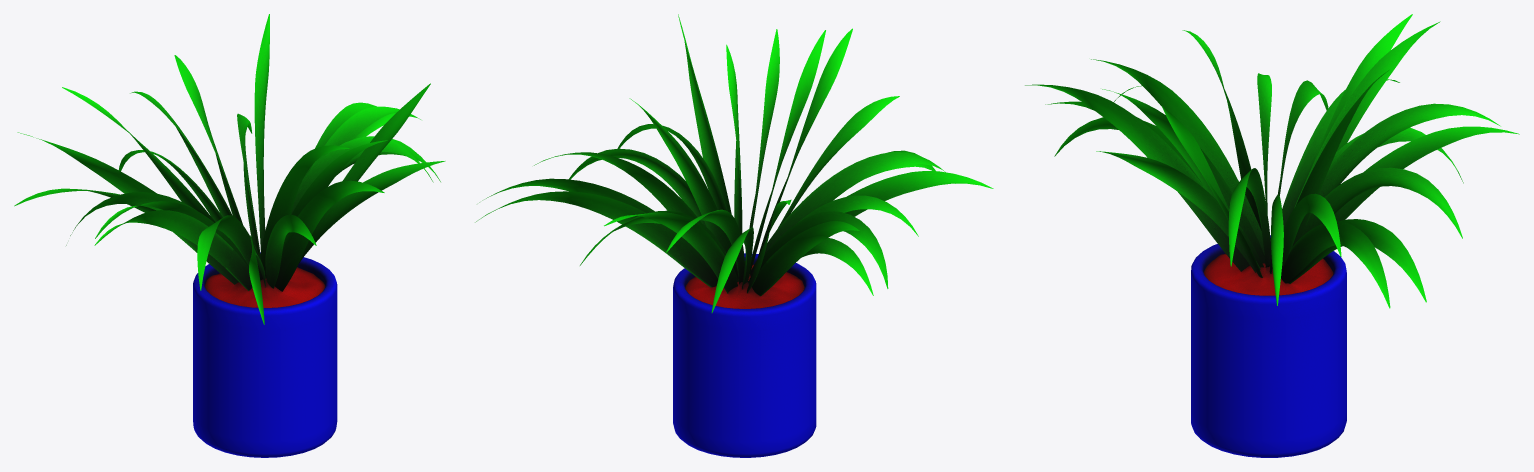
File: asset.glb
3 views of the same model, side by side, from view 1: azimuth 30°, elevation 25°; view 2: azimuth 150°, elevation 25°; view 3: azimuth 270°, elevation 25° (orthographic). The views are drawn at different scales.
Visible parts, largest first — view 1: Plant001; view 2: Plant001; view 3: Plant001.
Boxes of the visible parts, x1,y1,x2,y2 form: Plant001: (14, 14, 445, 457); Plant001: (475, 14, 993, 457); Plant001: (1025, 14, 1519, 457).
Bounding box in the file's own units: 0.8349 × 0.676 × 0.7822.
1 material, 1 textured.
